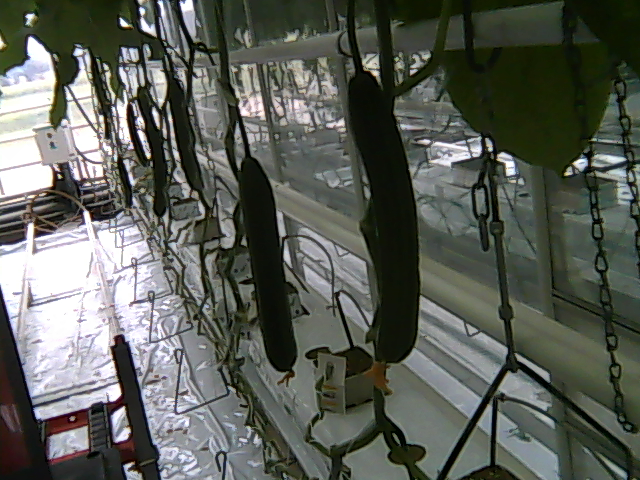concombre: (342, 65, 424, 398), (234, 151, 302, 389)
